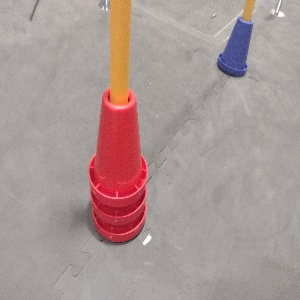Blue_1: (215, 12, 255, 82)
Red_3: (87, 86, 149, 244)
